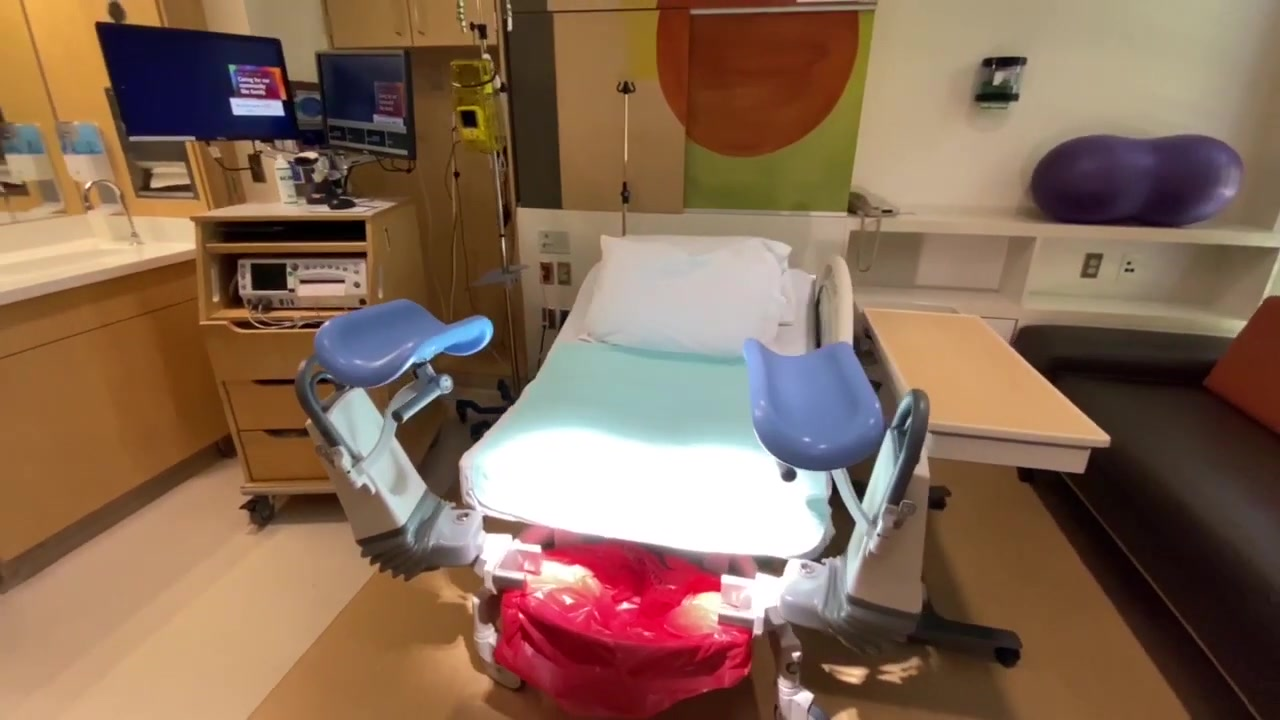bedrail: (814, 256, 855, 404)
computer: (96, 23, 299, 139), (315, 52, 410, 158)
counter: (1, 241, 220, 593)
countertop: (1, 239, 196, 306)
dispenser: (113, 140, 202, 203), (54, 122, 110, 182), (3, 123, 54, 182)
drawer: (188, 201, 427, 497)
faucet: (79, 178, 143, 244)
handle: (390, 1, 408, 38), (412, 1, 427, 36)
iv_pole: (456, 1, 521, 442), (615, 80, 636, 238)
mouse: (327, 197, 358, 210)
operating_bed: (294, 233, 930, 660)
overbed_table: (857, 306, 1112, 630)
sink: (2, 240, 128, 278)
sofa: (1008, 295, 1280, 720)
telephone: (847, 184, 903, 222)
waste_bin: (505, 540, 750, 720)
